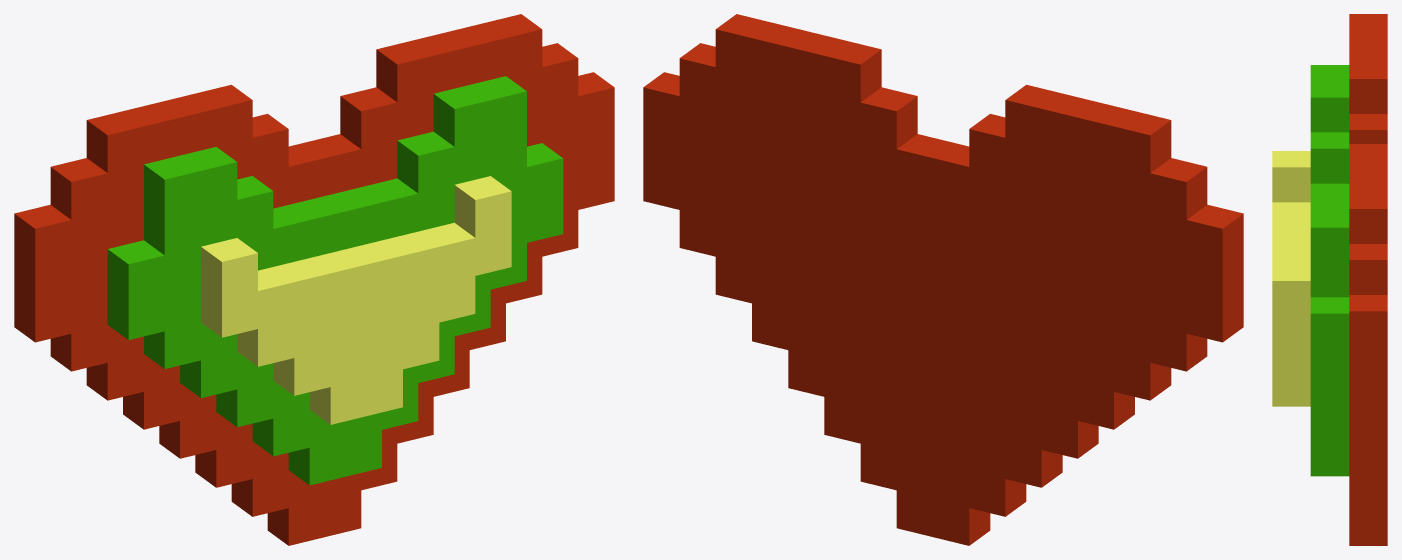
3 renders of one model, left to right at view 1: azimuth 30°, elevation 25°; view 2: azimuth 150°, elevation 25°; view 3: azimuth 270°, elevation 25°, orthographic. The views are drawn at different scales.
Visible parts, largest first — view 1: Null_7, Null_4, Null_6, Null_5, Null_10, Null_3, Null_8, Null_9, Null_2, Null_11, Null_12, Null_1 (+4 smaller); view 2: Null_10, Null_9, Null_5, Null_6, Null_7, Null_8, Null_4, Null_11, Null_3, Null_12, Null_2, Null_13 (+4 smaller); view 3: Null_11, Null_13, Null_12, Null_5, Null_4, Null_15, Null_10, Null_8, Null_14, Null_6, Null_9, Null_3 (+2 smaller).
Part boxes in pixels (x1=…): Null_7: x1=267, y1=143, x2=366, y2=545; Null_4: x1=159, y1=93, x2=257, y2=458; Null_6: x1=231, y1=114, x2=330, y2=516; Null_5: x1=195, y1=84, x2=294, y2=487; Null_10: x1=376, y1=40, x2=475, y2=443; Null_3: x1=123, y1=102, x2=200, y2=429; Null_8: x1=304, y1=134, x2=402, y2=536; Null_9: x1=340, y1=87, x2=439, y2=490; Null_2: x1=86, y1=111, x2=164, y2=400; Null_11: x1=413, y1=31, x2=511, y2=396; Null_12: x1=449, y1=23, x2=526, y2=349; Null_1: x1=50, y1=158, x2=107, y2=371; Null_10: x1=824, y1=40, x2=881, y2=443; Null_9: x1=860, y1=87, x2=917, y2=490; Null_5: x1=1005, y1=84, x2=1062, y2=487; Null_6: x1=969, y1=114, x2=1026, y2=516; Null_7: x1=933, y1=143, x2=990, y2=545; Null_8: x1=896, y1=134, x2=953, y2=536; Null_4: x1=1041, y1=93, x2=1098, y2=458; Null_11: x1=788, y1=31, x2=844, y2=396; Null_3: x1=1078, y1=102, x2=1134, y2=429; Null_12: x1=752, y1=23, x2=808, y2=349; Null_2: x1=1114, y1=111, x2=1171, y2=400; Null_13: x1=715, y1=14, x2=772, y2=303; Null_11: x1=1272, y1=160, x2=1387, y2=490; Null_13: x1=1310, y1=192, x2=1387, y2=452; Null_12: x1=1310, y1=176, x2=1387, y2=471; Null_5: x1=1272, y1=62, x2=1387, y2=218; Null_4: x1=1272, y1=46, x2=1387, y2=202; Null_15: x1=1349, y1=295, x2=1387, y2=415; Null_10: x1=1272, y1=144, x2=1387, y2=508; Null_8: x1=1272, y1=251, x2=1387, y2=545; Null_14: x1=1349, y1=244, x2=1387, y2=434; Null_6: x1=1272, y1=114, x2=1387, y2=234; Null_9: x1=1272, y1=369, x2=1387, y2=527; Null_3: x1=1310, y1=30, x2=1387, y2=81.
Size of the model in its own units: 1008 by 756 by 189.
